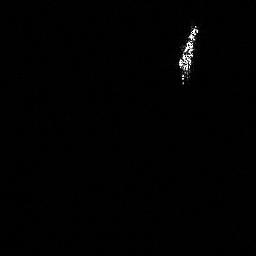ship: (174, 21, 202, 87)
